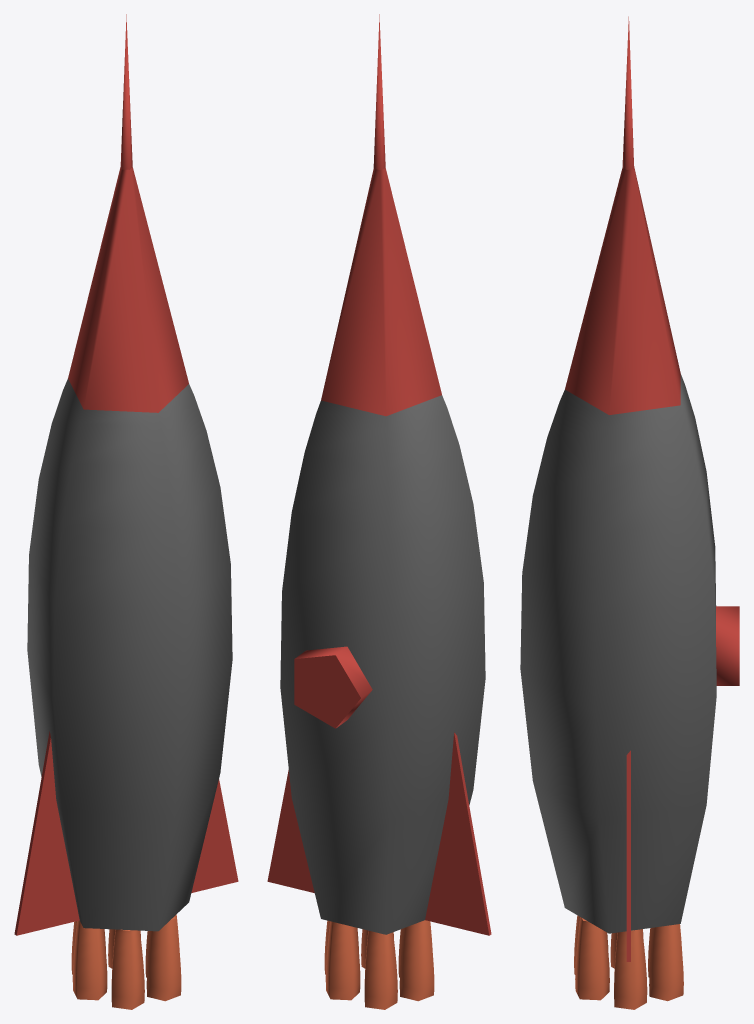
File: Cartoon Space Rockets.glb
The picture shows the model from 3 angles, left to right: view 1: azimuth 30°, elevation 25°; view 2: azimuth 150°, elevation 25°; view 3: azimuth 270°, elevation 25°; orthographic projection.
Visible parts, largest first — view 1: Root; view 2: Root; view 3: Root.
Boxes of the visible parts, bbox=[...] form: Root: bbox=[14, 14, 238, 1009]; Root: bbox=[267, 14, 491, 1009]; Root: bbox=[520, 16, 739, 1009].
Size of the model in its own units: 1.51 by 6.32 by 1.29.
